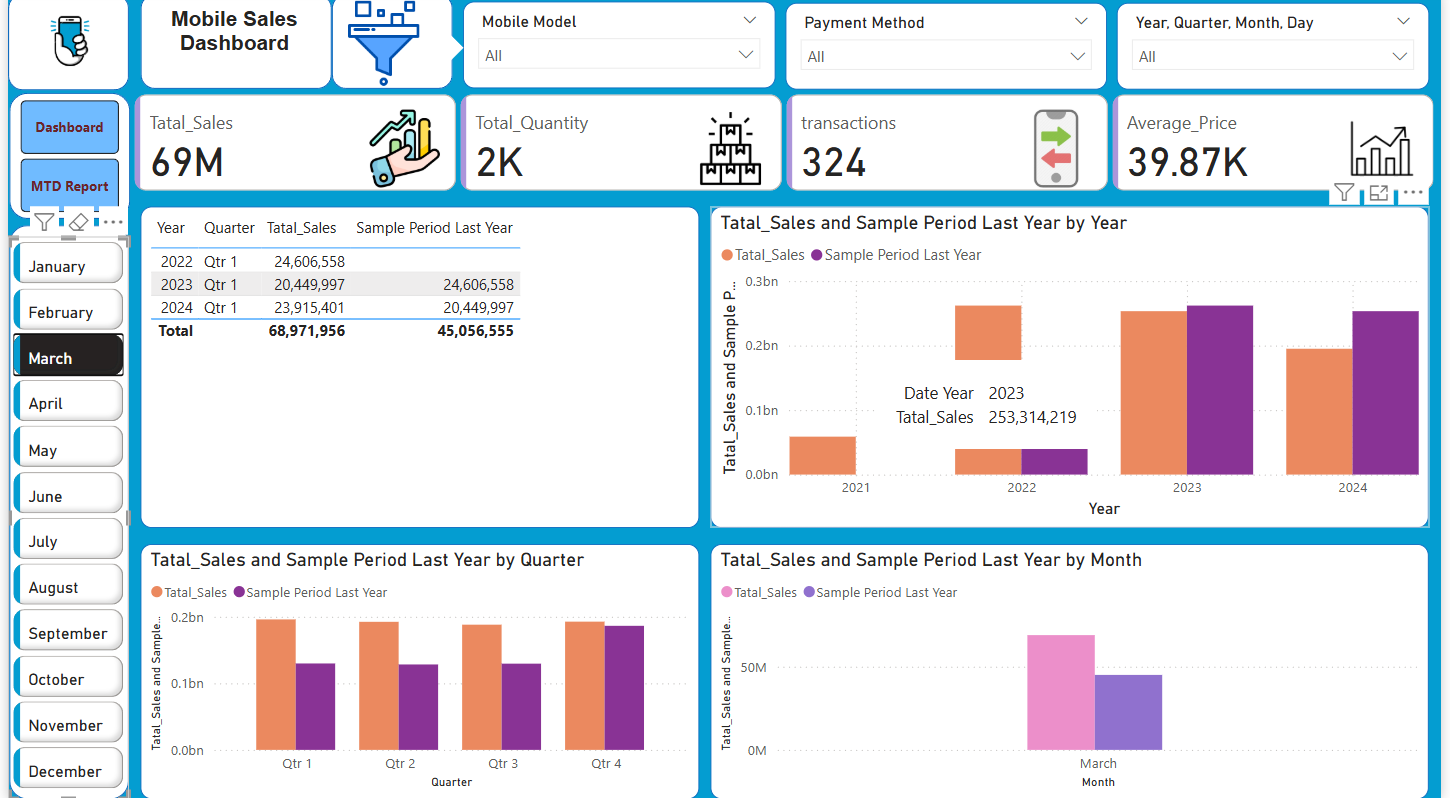

The page's visual inventory and layout, read from the dashboard file:
{"tool":"powerbi","page":{"name":"Same Period last Year","canvas":[1280,720],"ordinal":2},"visuals":[{"type":"shape","box":[0,0,108.1,86],"z":0},{"type":"image","box":[18.6,8.1,72.1,72.1],"z":1000},{"type":"shape","box":[1.2,88.4,108.1,112.8],"z":2000},{"type":"shape","box":[1.2,207,107,512.8],"z":3000},{"type":"advancedSlicerVisual","fields":{"Values":["custom_calender.Date.Variation.Date Hierarchy.Month"]},"box":[0,216.3,108.1,503.5],"z":4000},{"type":"cardVisual","fields":{"Data":["Mobile_Sales_Data.Tatal_Sales","Mobile_Sales_Data.Total_Quantity","Mobile_Sales_Data.transactions","Mobile_Sales_Data.Average_Price"]},"box":[108.1,84.9,1172.1,96.5],"z":5000},{"type":"slicer","fields":{"Values":["Mobile_Sales_Data.Mobile Model"]},"box":[407,7,279.1,77.9],"z":6000},{"type":"slicer","fields":{"Values":["Mobile_Sales_Data.Payment Method"]},"box":[694.2,8.1,287.2,77.9],"z":7000},{"type":"slicer","fields":{"Values":["custom_calender.Date.Variation.Date Hierarchy.Year","custom_calender.Date.Variation.Date Hierarchy.Quarter","custom_calender.Date.Variation.Date Hierarchy.Month","custom_calender.Date.Variation.Date Hierarchy.Day"]},"box":[990.7,8.1,279.1,77.9],"z":8000},{"type":"shape","box":[289.5,0,108.1,84.9],"z":9000},{"type":"image","box":[289.5,0,93,88.4],"z":10000},{"type":"shape","box":[361.6,33.7,45.3,29.1],"z":11000},{"type":"shape","box":[118.6,0,170.9,84.9],"z":12000},{"type":"textbox","box":[127.9,7,147.7,73.3],"z":13000},{"type":"tableEx","fields":{"Values":["custom_calender.Date.Variation.Date Hierarchy.Year","custom_calender.Date.Variation.Date Hierarchy.Quarter","Mobile_Sales_Data.Tatal_Sales","Mobile_Sales_Data.Sample Period Last Year"]},"box":[118.6,189.5,498.8,287.2],"z":13001},{"type":"clusteredColumnChart","fields":{"Category":["custom_calender.Date.Variation.Date Hierarchy.Year"],"Y":["Mobile_Sales_Data.Tatal_Sales","Mobile_Sales_Data.Sample Period Last Year"]},"box":[627.9,189.5,641.9,287.2],"z":13002},{"type":"clusteredColumnChart","fields":{"Y":["Mobile_Sales_Data.Tatal_Sales","Mobile_Sales_Data.Sample Period Last Year"],"Category":["custom_calender.Date.Variation.Date Hierarchy.Month"]},"box":[627.9,491.9,641.9,227.9],"z":13003},{"type":"clusteredColumnChart","fields":{"Y":["Mobile_Sales_Data.Tatal_Sales","Mobile_Sales_Data.Sample Period Last Year"],"Category":["custom_calender.Date.Variation.Date Hierarchy.Quarter"]},"box":[118.6,491.9,498.8,227.9],"z":13004},{"type":"pageNavigator","box":[11.6,95.3,88.4,101.2],"z":13005}]}

Visuals, with their boxes on the page's 1280x720 design canvas (x1, y1, x2, y2). These are canvas units, not pixel positions in the 1450x798 screenshot, which may show the page scaled, cropped or inside an application window:
shape: (0,0,108,86)
image: (19,8,91,80)
shape: (1,88,109,201)
shape: (1,207,108,720)
advancedSlicerVisual - custom_calender.Date.Variation.Date Hierarchy.Month: (0,216,108,720)
cardVisual - Mobile_Sales_Data.Tatal_Sales x Mobile_Sales_Data.Total_Quantity: (108,85,1280,181)
slicer - Mobile_Sales_Data.Mobile Model: (407,7,686,85)
slicer - Mobile_Sales_Data.Payment Method: (694,8,981,86)
slicer - custom_calender.Date.Variation.Date Hierarchy.Year x custom_calender.Date.Variation.Date Hierarchy.Quarter: (991,8,1270,86)
shape: (290,0,398,85)
image: (290,0,382,88)
shape: (362,34,407,63)
shape: (119,0,290,85)
textbox: (128,7,276,80)
tableEx - custom_calender.Date.Variation.Date Hierarchy.Year x custom_calender.Date.Variation.Date Hierarchy.Quarter: (119,190,617,477)
clusteredColumnChart - custom_calender.Date.Variation.Date Hierarchy.Year x Mobile_Sales_Data.Tatal_Sales: (628,190,1270,477)
clusteredColumnChart - Mobile_Sales_Data.Tatal_Sales x Mobile_Sales_Data.Sample Period Last Year: (628,492,1270,720)
clusteredColumnChart - Mobile_Sales_Data.Tatal_Sales x Mobile_Sales_Data.Sample Period Last Year: (119,492,617,720)
pageNavigator: (12,95,100,196)
